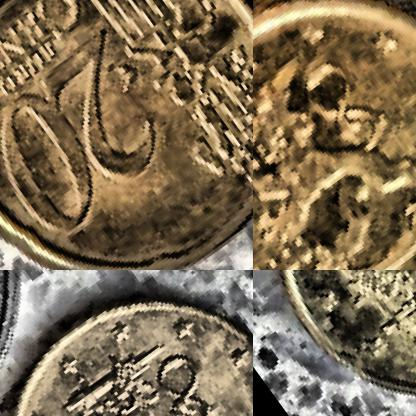coin: (0, 0, 252, 269), (253, 0, 415, 269), (0, 270, 252, 415), (253, 270, 415, 415)
